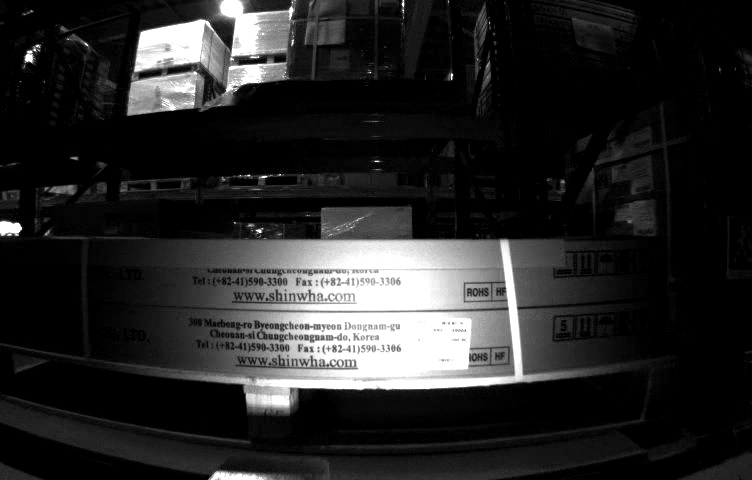True Barcode: (418, 317, 473, 371)
